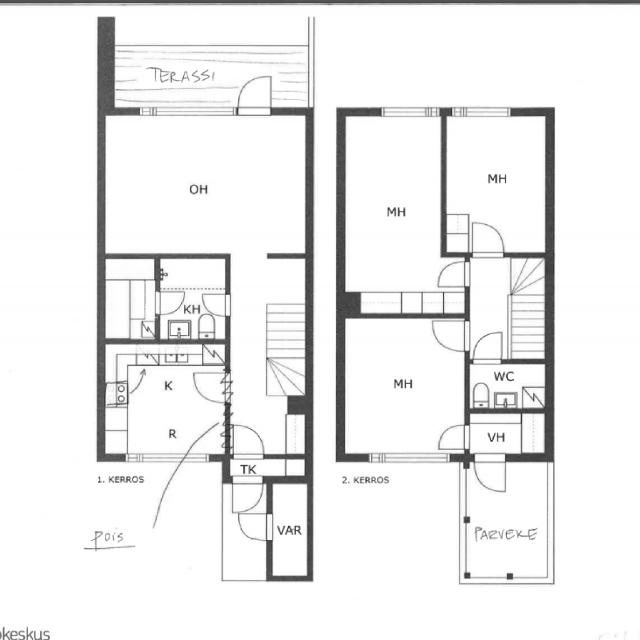door: (153, 257, 228, 342), (466, 362, 550, 410), (465, 218, 510, 262), (424, 314, 472, 355), (234, 73, 275, 117), (471, 451, 509, 498), (226, 474, 265, 516), (429, 256, 472, 294), (189, 369, 231, 406), (234, 509, 274, 544), (230, 422, 266, 459), (148, 285, 186, 320), (471, 328, 507, 363), (432, 421, 470, 454), (200, 291, 233, 321)
window: (130, 101, 237, 122), (362, 447, 450, 469), (446, 100, 519, 122), (373, 102, 443, 121), (120, 448, 182, 469)
zone: (102, 113, 310, 255), (340, 110, 450, 314), (339, 315, 466, 455), (98, 341, 230, 460), (442, 111, 549, 257), (156, 258, 228, 341), (100, 255, 157, 340), (465, 361, 549, 410), (466, 411, 552, 458), (270, 482, 310, 580)
